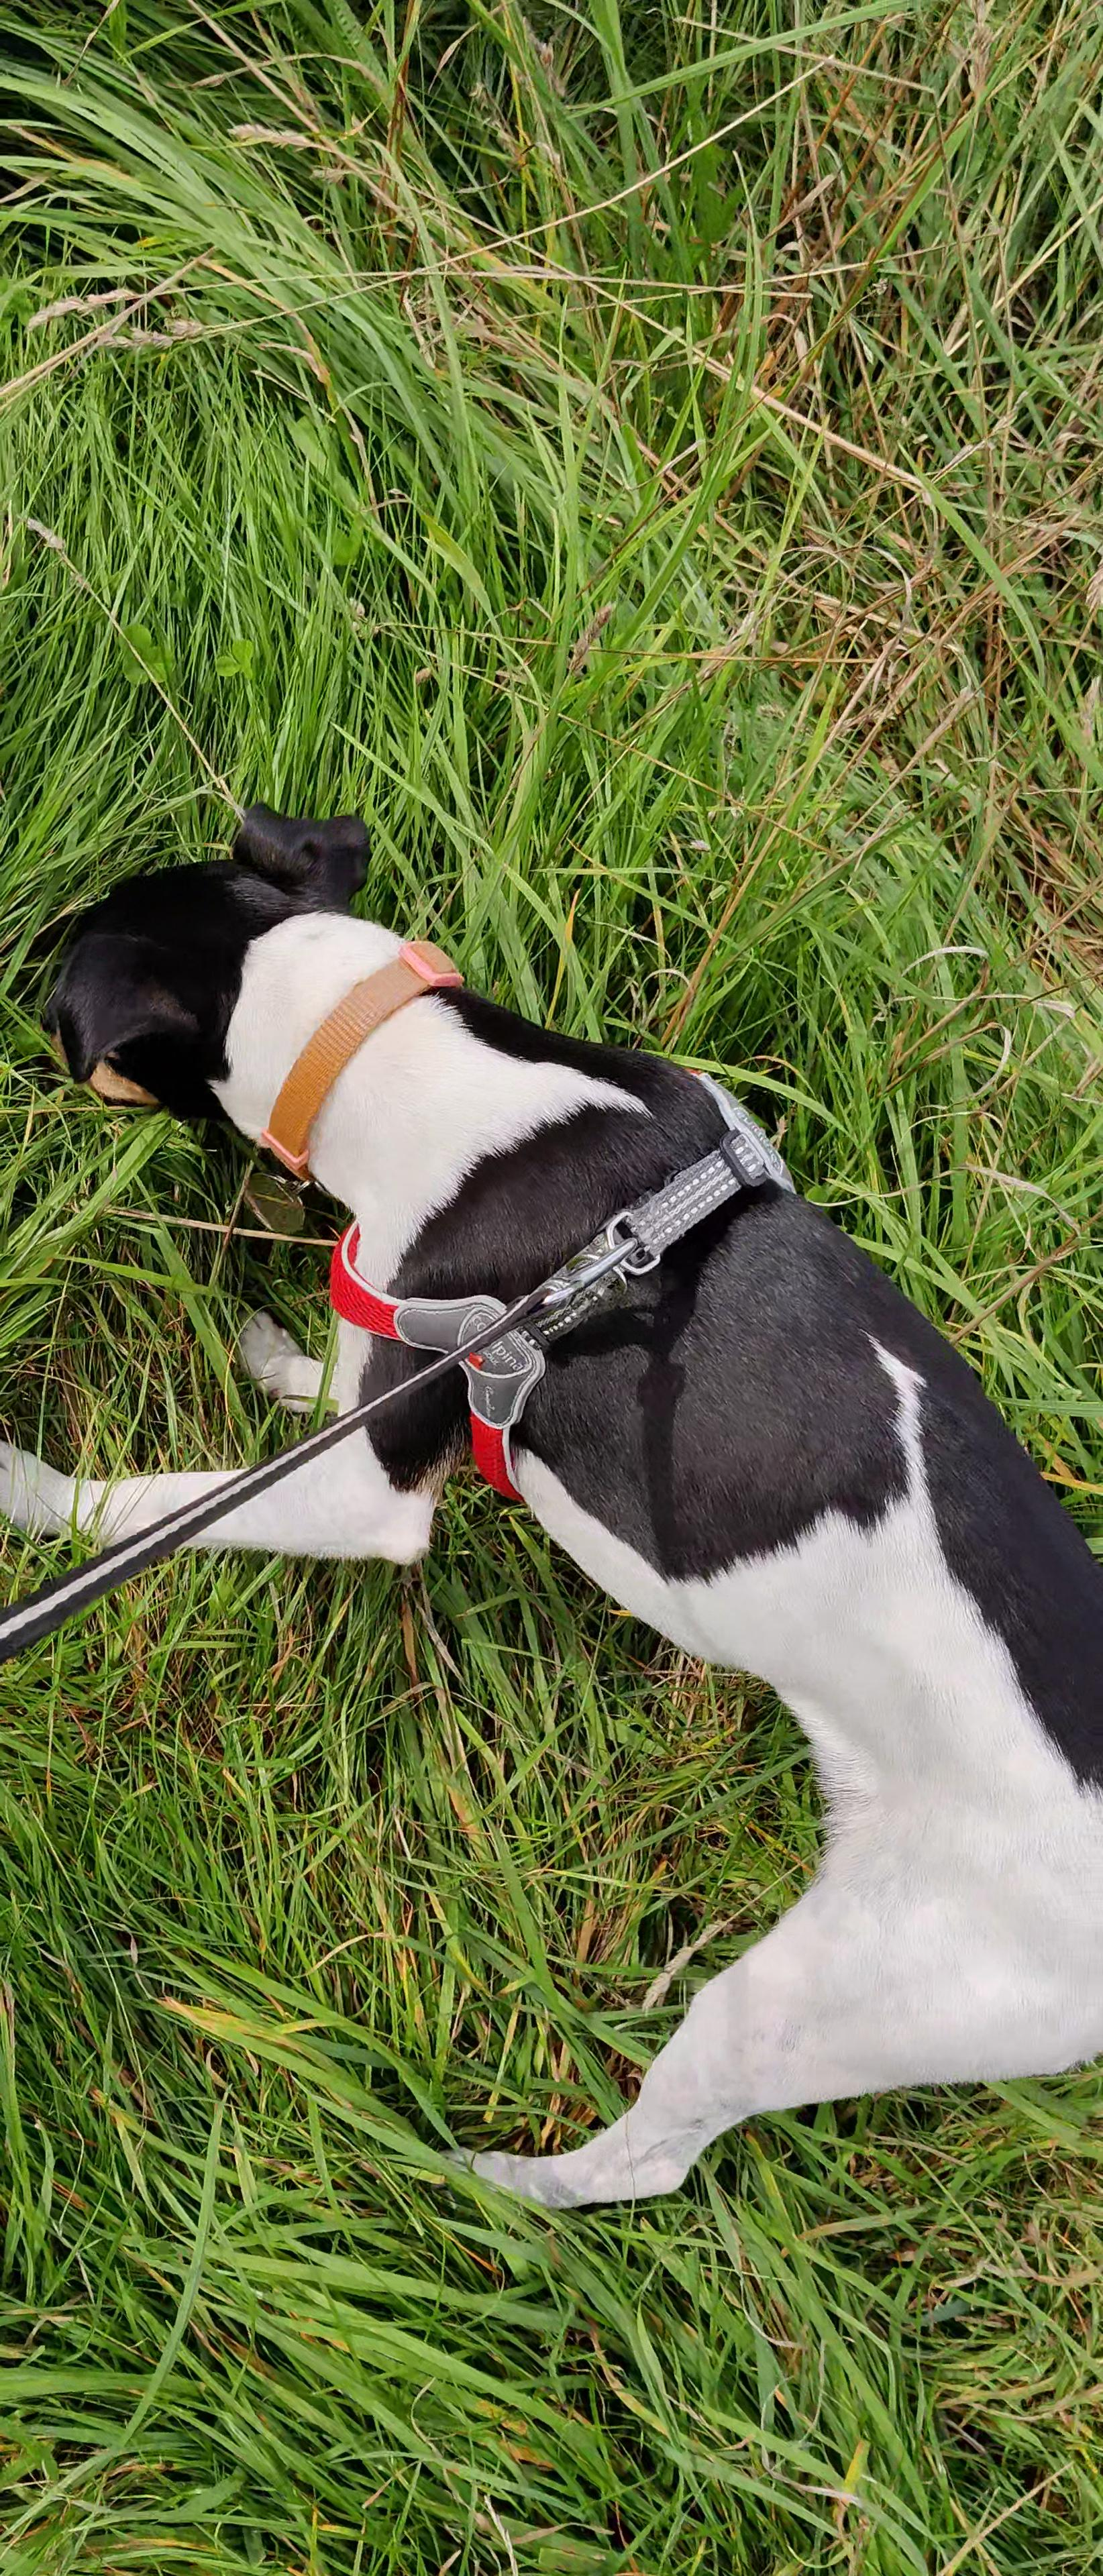Dog: (0, 775, 1103, 2218)
